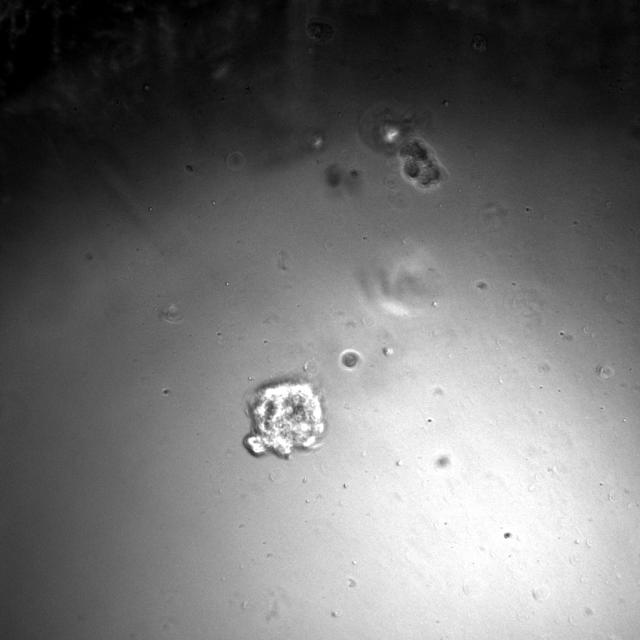organoid: (244, 379, 325, 457), (399, 137, 446, 192), (340, 349, 361, 370)
